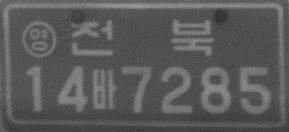1: (20, 65, 53, 113)
2: (159, 64, 192, 113)
4: (56, 65, 88, 112)
5: (238, 65, 271, 116)
7: (120, 64, 152, 113)
8: (199, 65, 232, 114)
바: (91, 68, 117, 110)
영: (19, 20, 57, 59)
전북_D: (70, 17, 214, 58)
